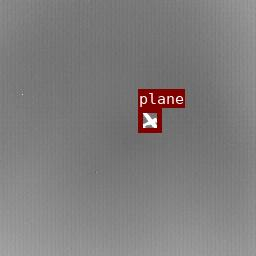plane: (138, 108, 161, 132)
